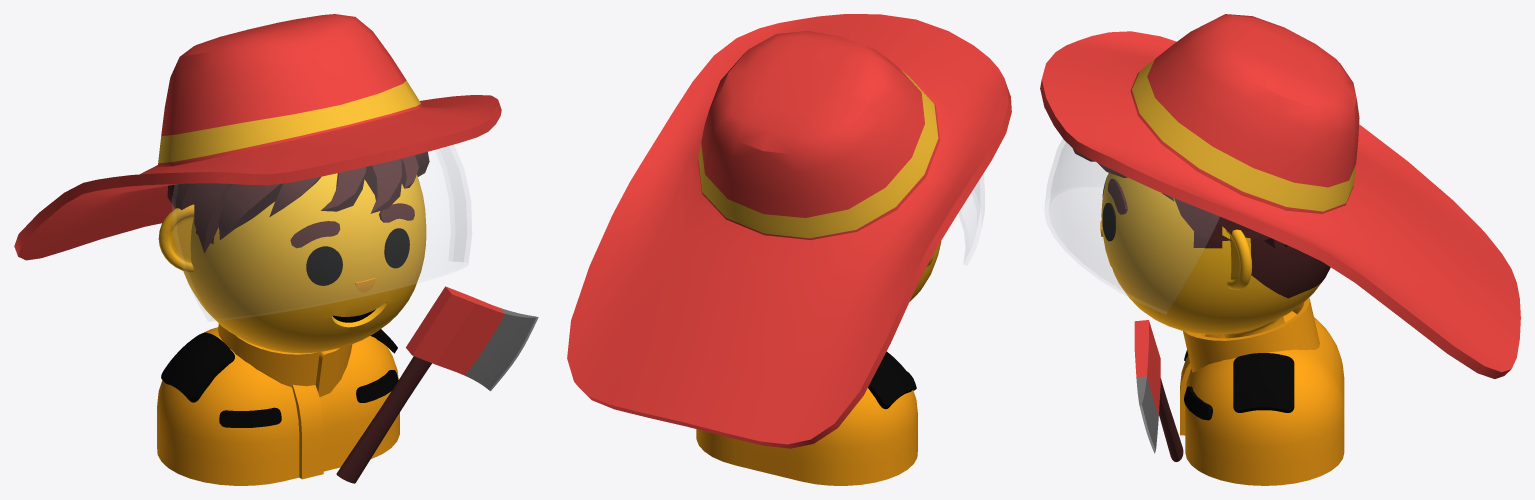
File: firefighter.fbx
The picture shows the model from 3 angles, left to right: view 1: azimuth 30°, elevation 25°; view 2: azimuth 150°, elevation 25°; view 3: azimuth 270°, elevation 25°; orthographic projection. The views are drawn at different scales.
Parts seen in each view (by area): view 1: Plane.071, Sphere.104, Roundcube.139, Sphere.103, Cube.1725, Cube.1716, Circle.760, Cube.1724, Circle.757, Sphere.105, Cylinder.115, Circle.759; view 2: Plane.071, Sphere.103, Cube.1724, Sphere.104; view 3: Plane.071, Roundcube.139, Sphere.103, Sphere.104, Circle.760, Cube.1724, Cube.1725, Cube.1716, Cylinder.115, Sphere.105.
Boxes of the visible parts, left/top/right/bottom form: Plane.071: left=14, top=14, right=501, bottom=260; Sphere.104: left=172, top=145, right=471, bottom=320; Roundcube.139: left=183, top=173, right=426, bottom=353; Sphere.103: left=157, top=327, right=399, bottom=485; Cube.1725: left=336, top=286, right=538, bottom=483; Cube.1716: left=167, top=152, right=429, bottom=252; Circle.760: left=218, top=323, right=352, bottom=397; Cube.1724: left=161, top=329, right=397, bottom=402; Circle.757: left=306, top=228, right=409, bottom=285; Sphere.105: left=219, top=370, right=398, bottom=427; Cylinder.115: left=158, top=204, right=194, bottom=272; Circle.759: left=290, top=203, right=414, bottom=248; Plane.071: left=567, top=14, right=1011, bottom=448; Sphere.103: left=696, top=388, right=917, bottom=485; Cube.1724: left=868, top=351, right=915, bottom=409; Sphere.104: left=959, top=174, right=984, bottom=264; Plane.071: left=1040, top=14, right=1520, bottom=378; Roundcube.139: left=1101, top=173, right=1330, bottom=338; Sphere.103: left=1180, top=311, right=1344, bottom=485; Sphere.104: left=1045, top=139, right=1219, bottom=313; Circle.760: left=1183, top=297, right=1319, bottom=372; Cube.1724: left=1233, top=353, right=1294, bottom=412; Cube.1725: left=1134, top=320, right=1183, bottom=461; Cube.1716: left=1072, top=148, right=1288, bottom=248; Cylinder.115: left=1226, top=229, right=1252, bottom=289; Sphere.105: left=1184, top=350, right=1212, bottom=420.
Bounding box in the file's own units: 220 × 258 × 272.
Materials: 3 (2 with a texture image).
